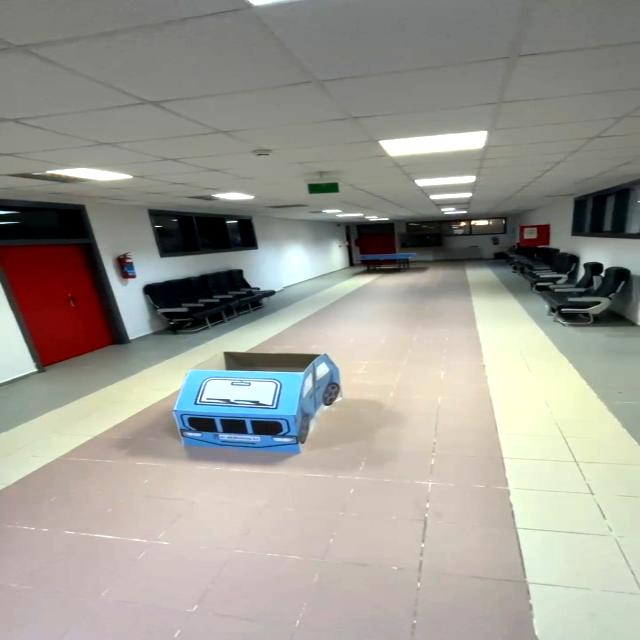blue_car: (151, 334, 411, 466)
